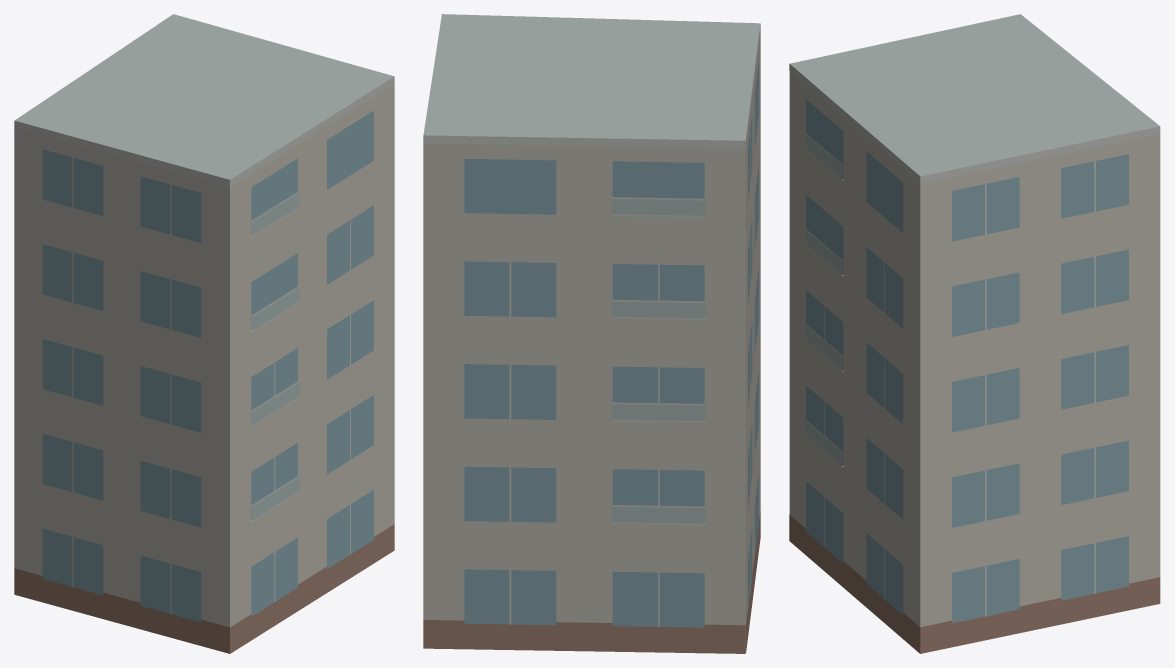
Rendered from survey-upis-33040738.glb.
3 views of the same model, side by side, from view 1: azimuth 30°, elevation 25°; view 2: azimuth 150°, elevation 25°; view 3: azimuth 270°, elevation 25° (orthographic). The views are drawn at different scales.
Visible parts, largest first — view 1: survey-upis-33040738.tmp; view 2: survey-upis-33040738.tmp; view 3: survey-upis-33040738.tmp.
Part boxes in pixels (x1,y1,x2,y2): survey-upis-33040738.tmp: [14, 14, 394, 653]; survey-upis-33040738.tmp: [423, 14, 760, 653]; survey-upis-33040738.tmp: [789, 14, 1160, 653].
Size of the model in its own units: 11.32 by 15.5 by 10.92.
